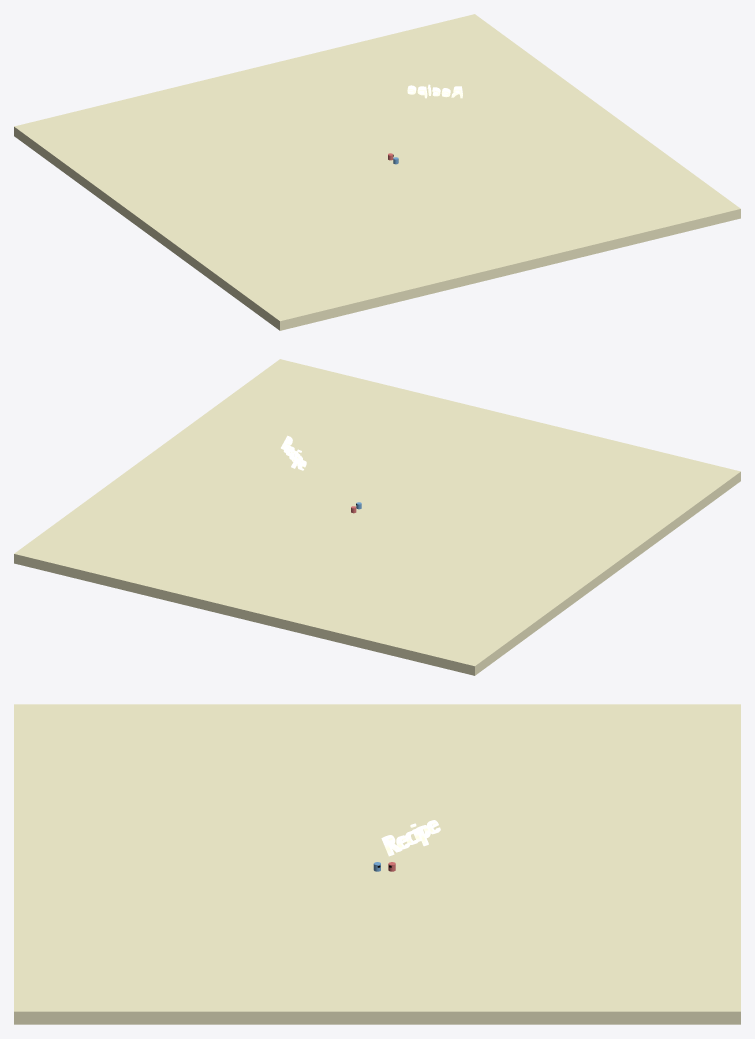
3 renders of one model, top to bottom at view 1: azimuth 30°, elevation 25°; view 2: azimuth 150°, elevation 25°; view 3: azimuth 270°, elevation 25°, orthographic. The views are drawn at different scales.
Visible parts, largest first — view 1: Floor; view 2: Floor; view 3: Floor, TitleTextMesh.
Boxes of the visible parts, left/top/right/bottom form: Floor: left=14, top=14, right=740, bottom=330; Floor: left=14, top=359, right=740, bottom=675; Floor: left=14, top=704, right=740, bottom=1024; TitleTextMesh: left=381, top=820, right=440, bottom=856.
Size of the model in its own units: 50 by 7 by 50.
